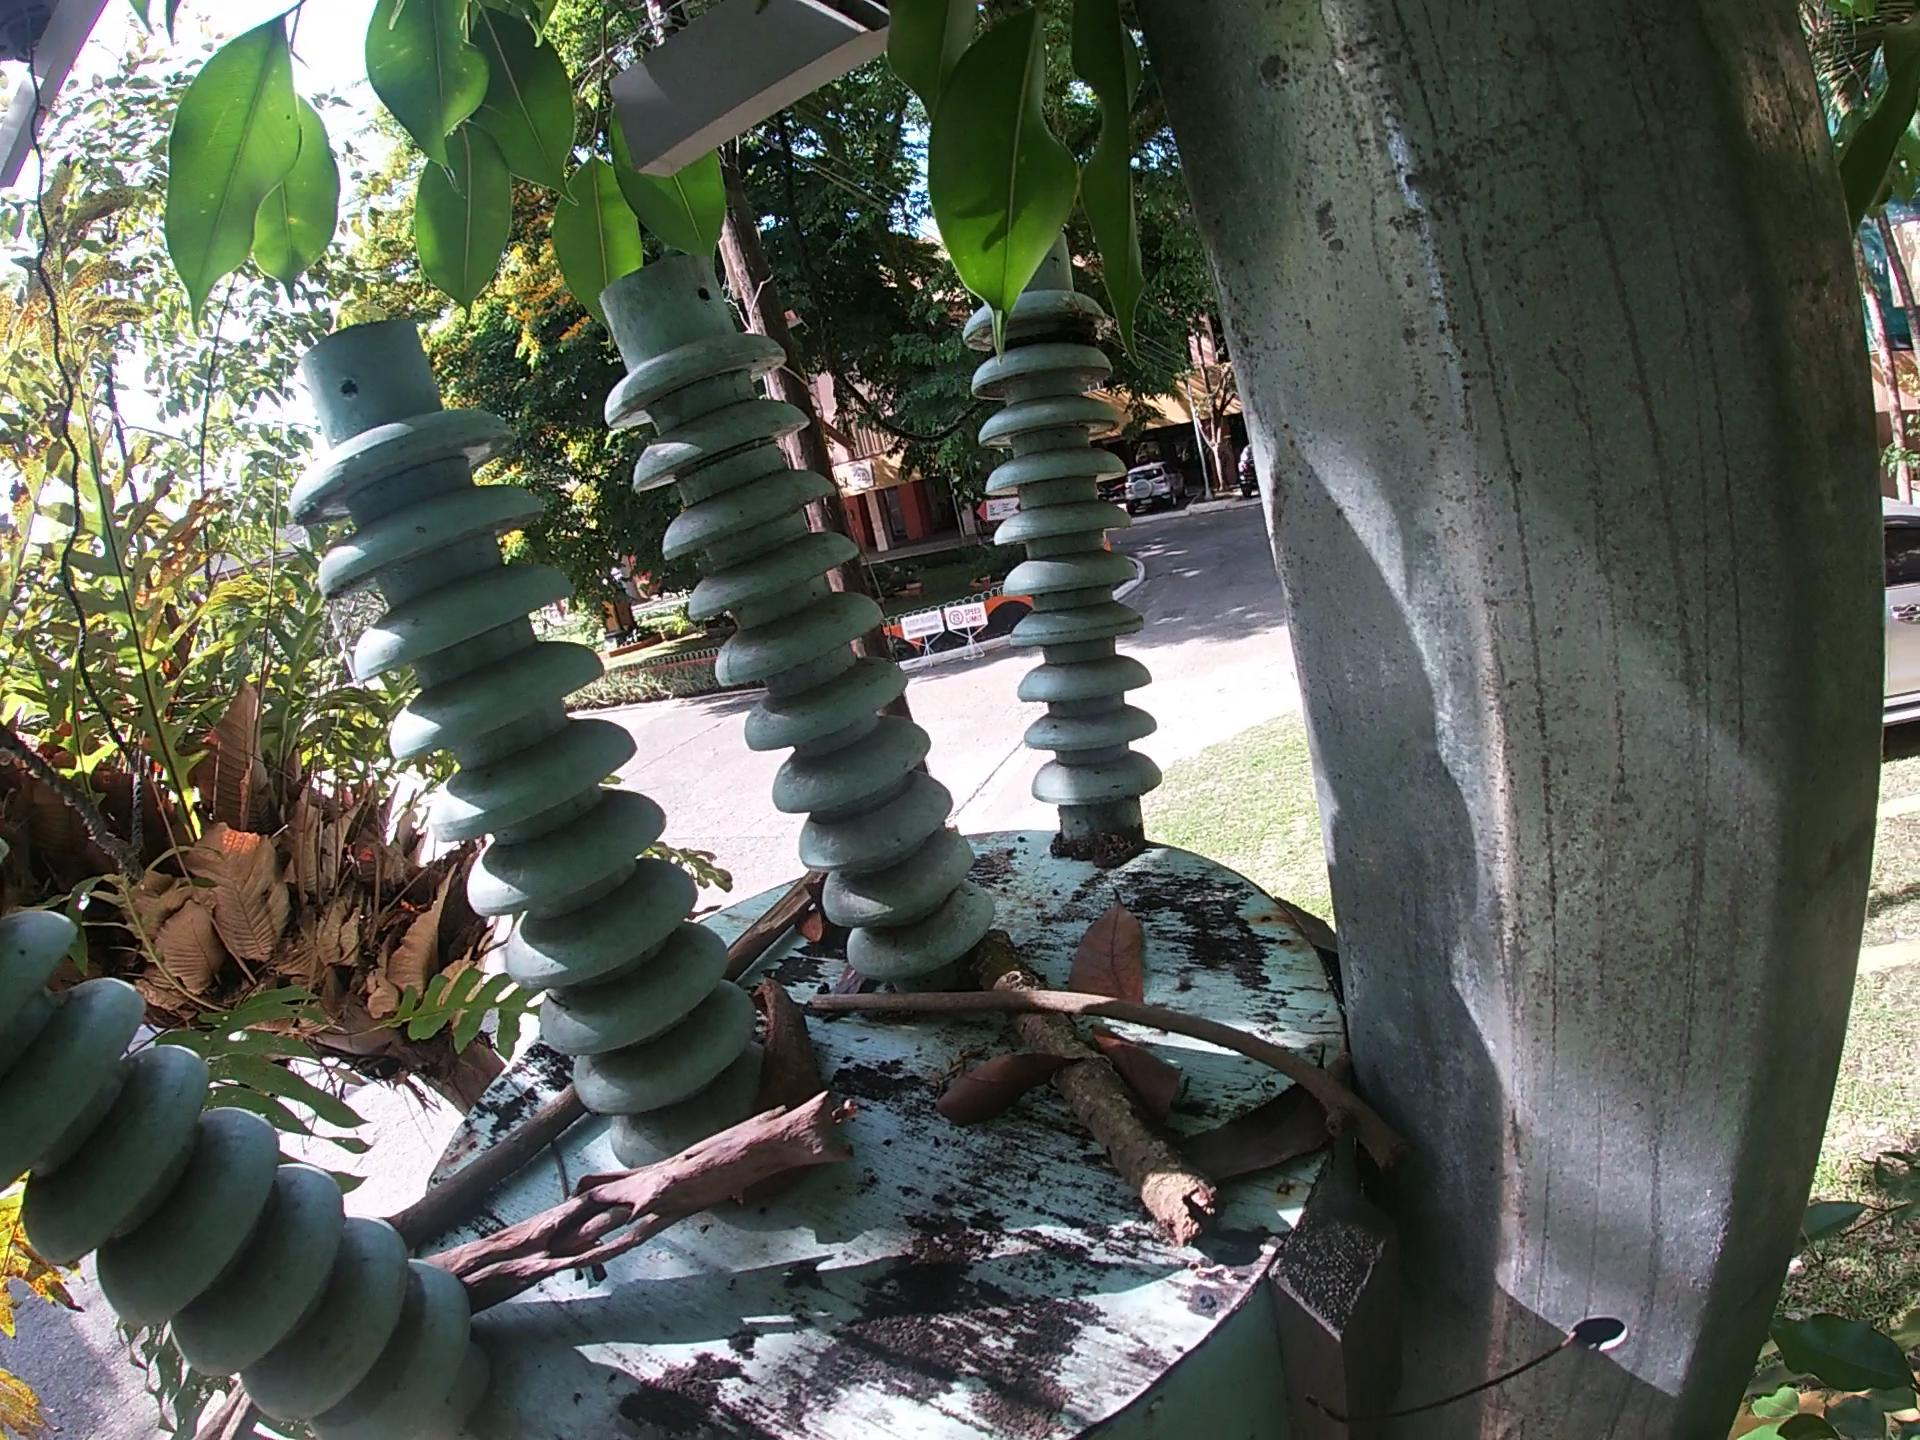leaf: (1175, 1044, 1338, 1192), (919, 1039, 1095, 1144), (1064, 889, 1155, 1007), (1085, 1019, 1182, 1122)
mahogany fruit: (723, 973, 831, 1219), (792, 877, 844, 951)
tree branch: (809, 979, 1418, 1175), (413, 1082, 865, 1311), (962, 923, 1234, 1249), (382, 1083, 602, 1255), (718, 871, 825, 988)
